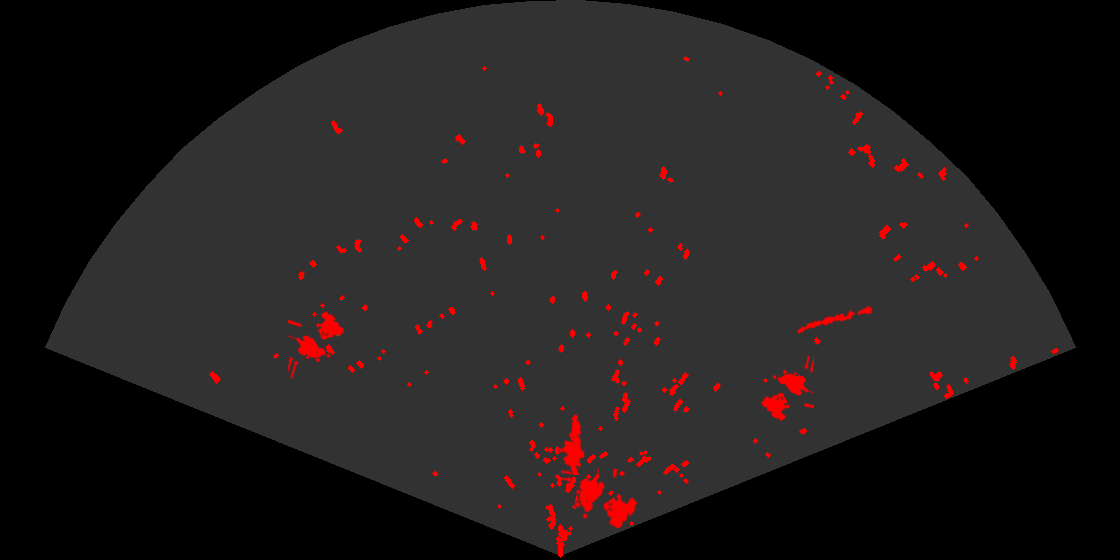cage: (561, 469, 639, 530), (288, 310, 346, 378), (760, 356, 814, 423)
chain: (795, 304, 874, 335)
frogman: (558, 413, 586, 475)
